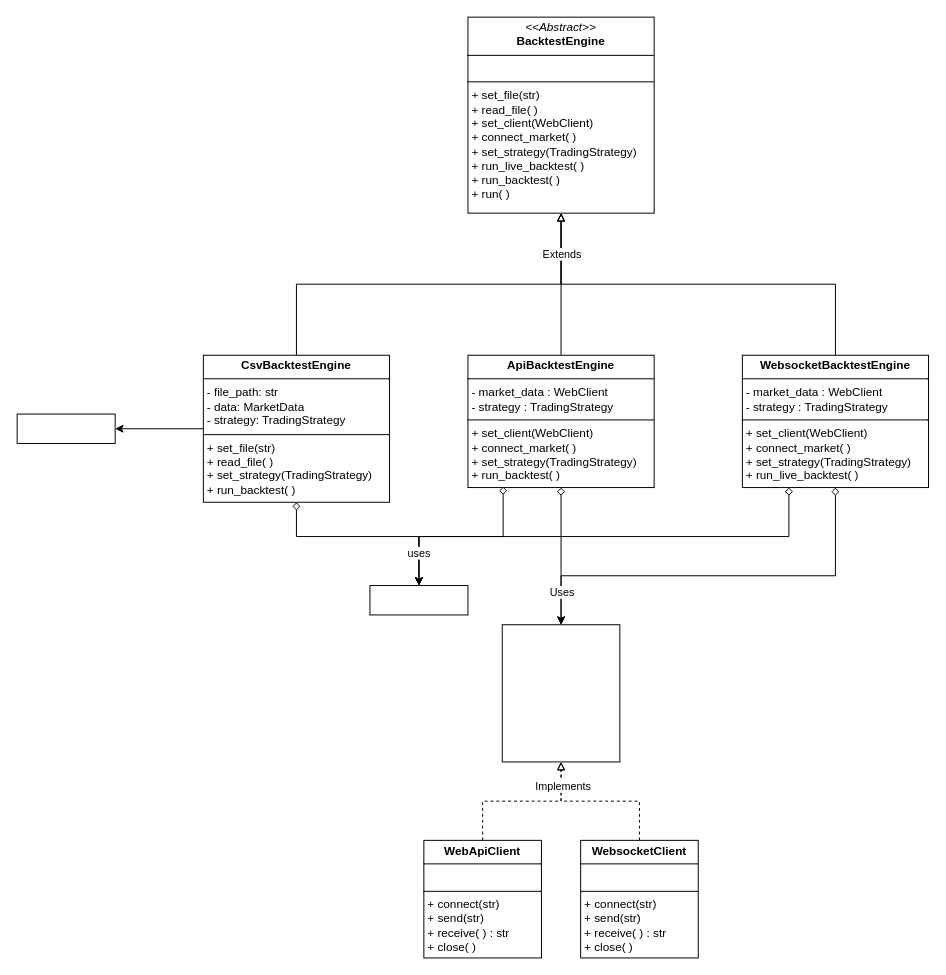
This 946x975 diagram has some shape labels left out. Each missing label, with the centre of its shape:
<<Interface>> WebClient + connect(str) + send(str) + receive( ) : str + close( ): [560,693]
MarketData: [65,428]
TradingStrategy: [418,600]
